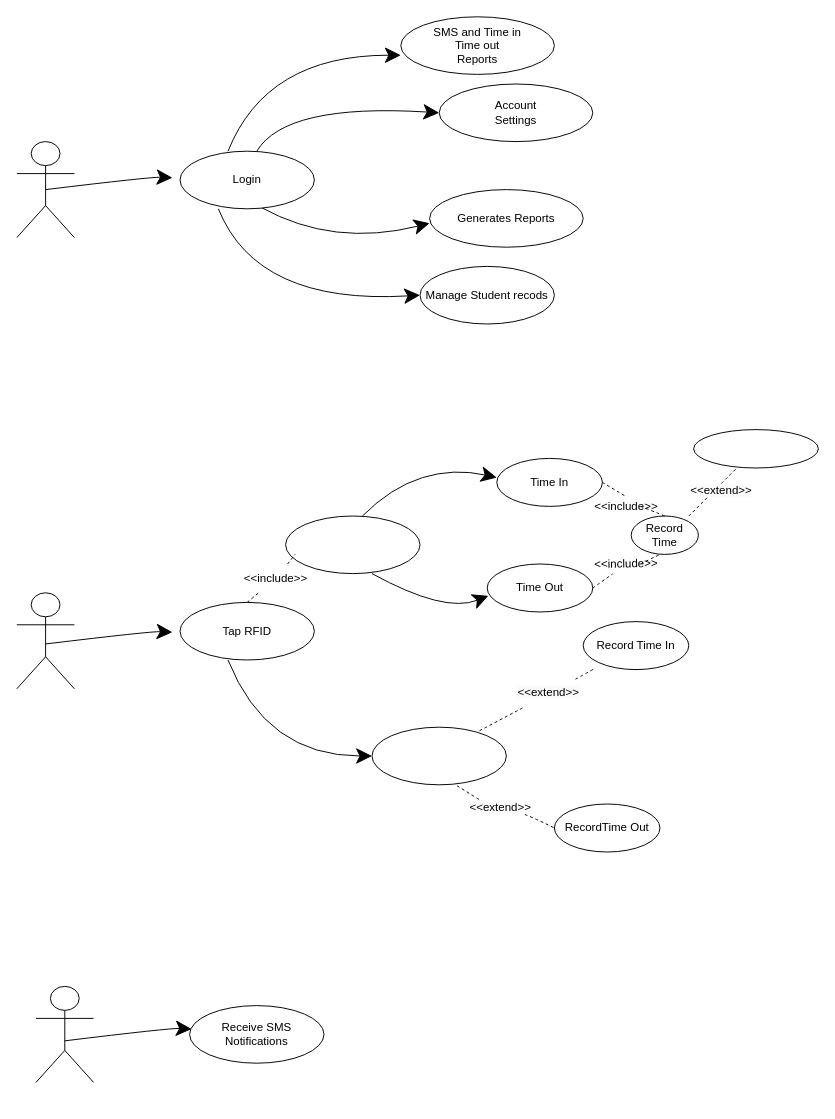
This 835x1119 diagram has some shape labels left out. Each missing label, with the centre of its shape:
Admin: pixel 45 189
Display Student Information: pixel 755 448
Parent: pixel 64 1033
Send Sms: pixel 438 755
Student: pixel 45 640
Validate RFID: pixel 352 544
